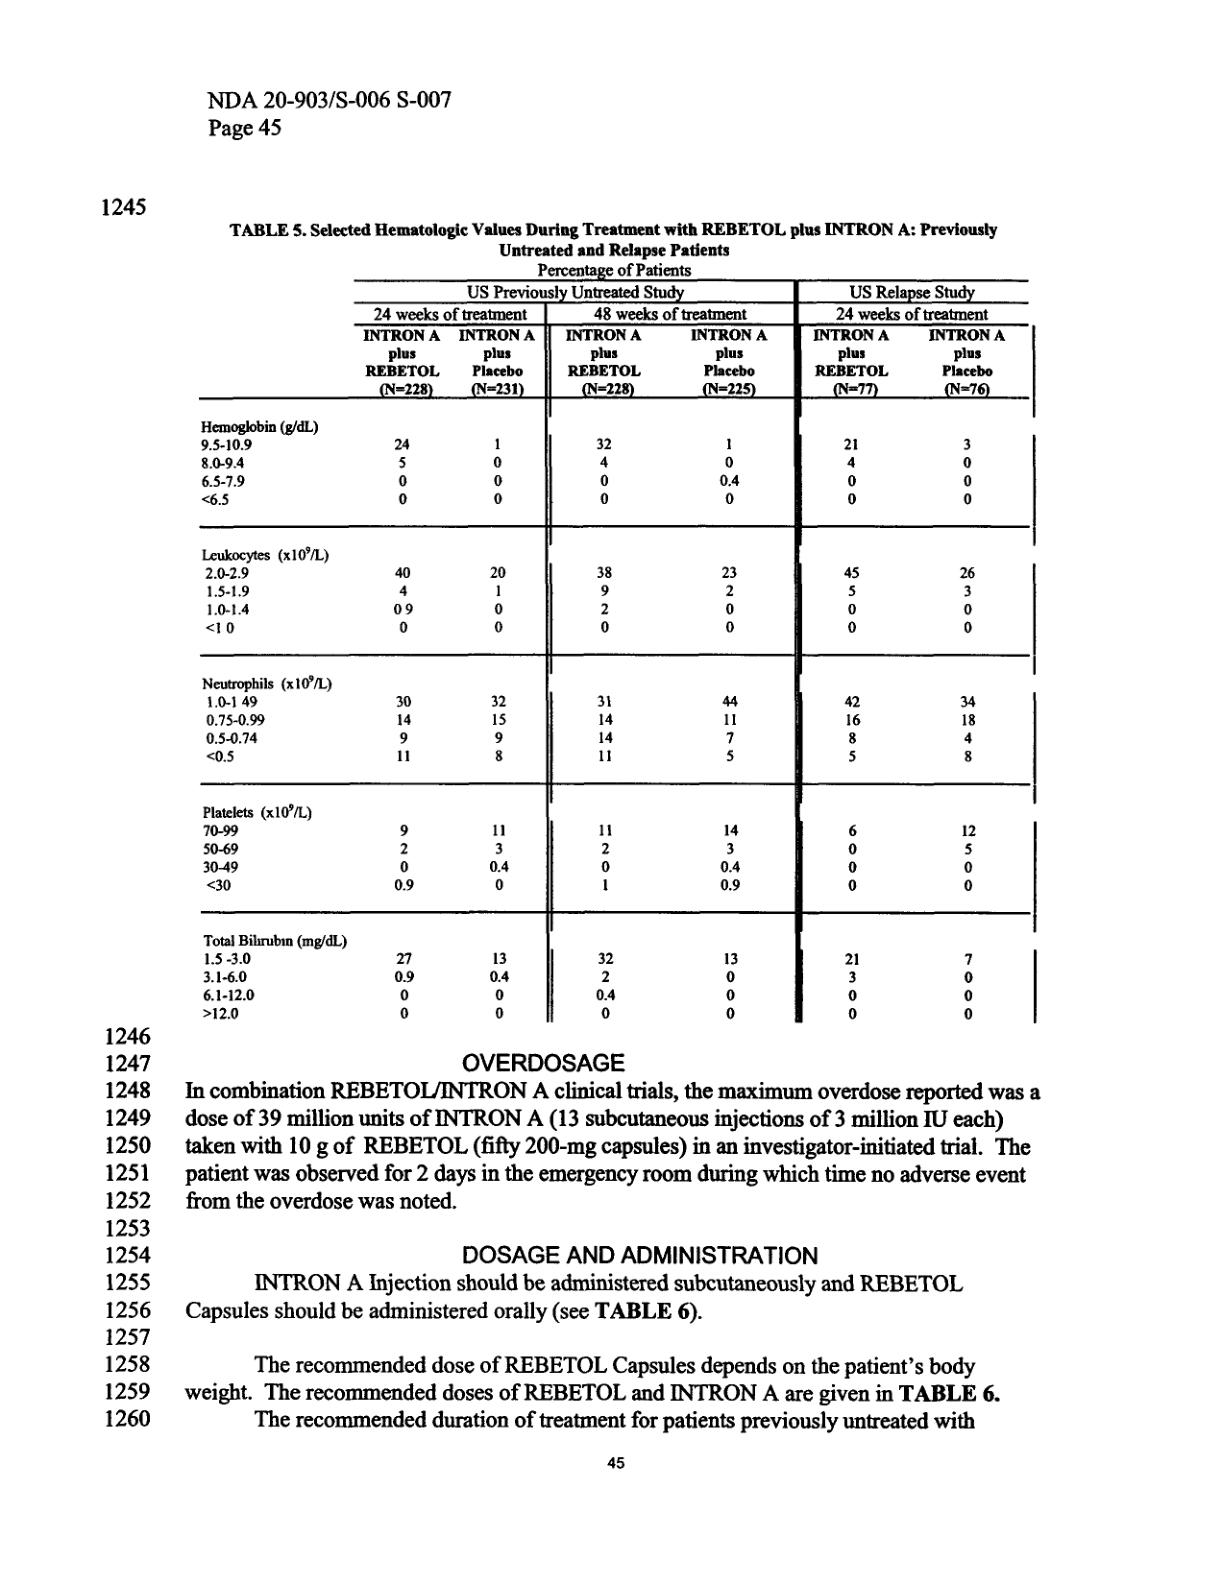partial_lined_merged_cells: (196, 259, 1038, 1028)
